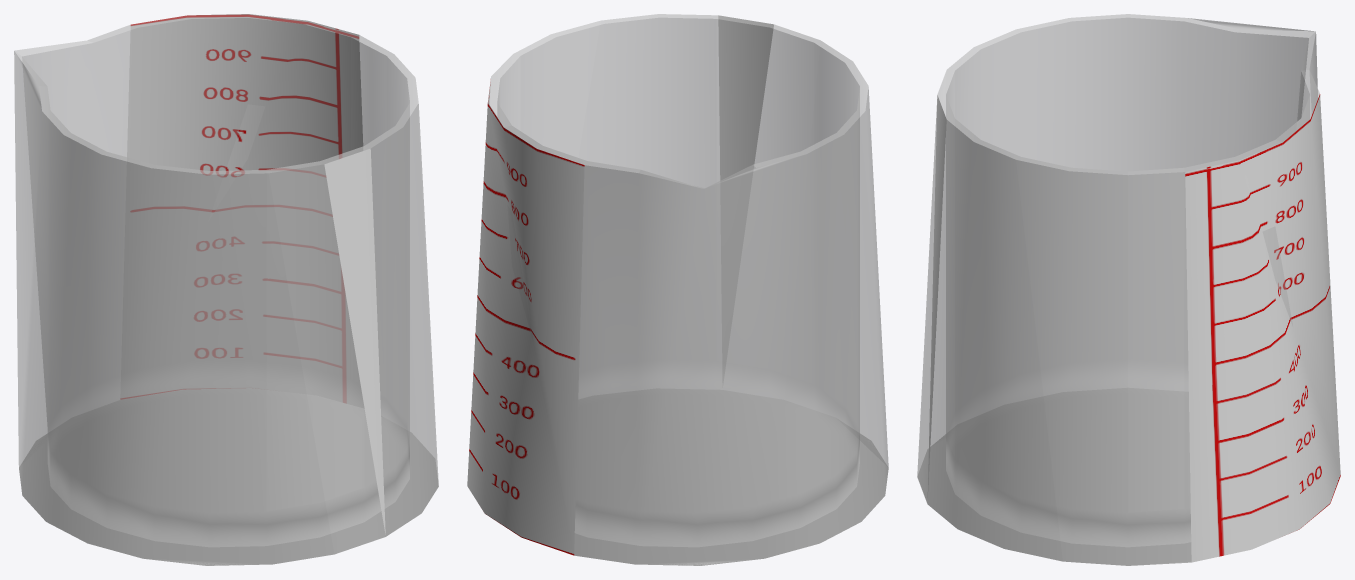
The model's file is measuring cup1.fbx.
3 renders of one model, left to right at view 1: azimuth 30°, elevation 25°; view 2: azimuth 150°, elevation 25°; view 3: azimuth 270°, elevation 25°, orthographic.
Visible parts, largest first — view 1: pCylinder1; view 2: pCylinder1; view 3: pCylinder1.
Part boxes in pixels (x1,y1,x2,y2): pCylinder1: [14, 14, 438, 565]; pCylinder1: [467, 14, 888, 565]; pCylinder1: [917, 14, 1340, 565].
Size of the model in its own units: 10.99 by 11.12 by 11.04.
Materials: 4 (1 with a texture image).
